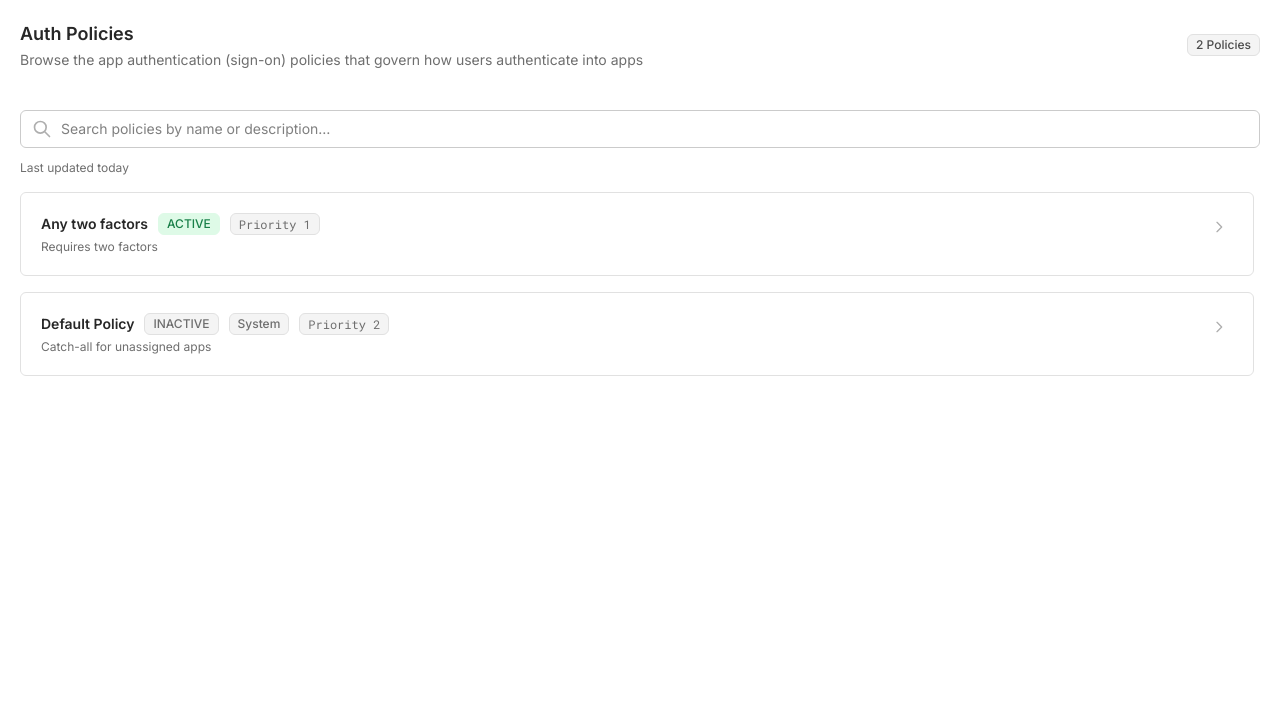
Test case: AuthPoliciesTab › shows an inline danger state when a policy’s rules fail to load
Expected: the heading "Any two factors" is shown, [41, 214, 148, 234]
Click the button named "Show rules for Any two factors".
click(1219, 227)  # box [1205, 213, 1233, 241]
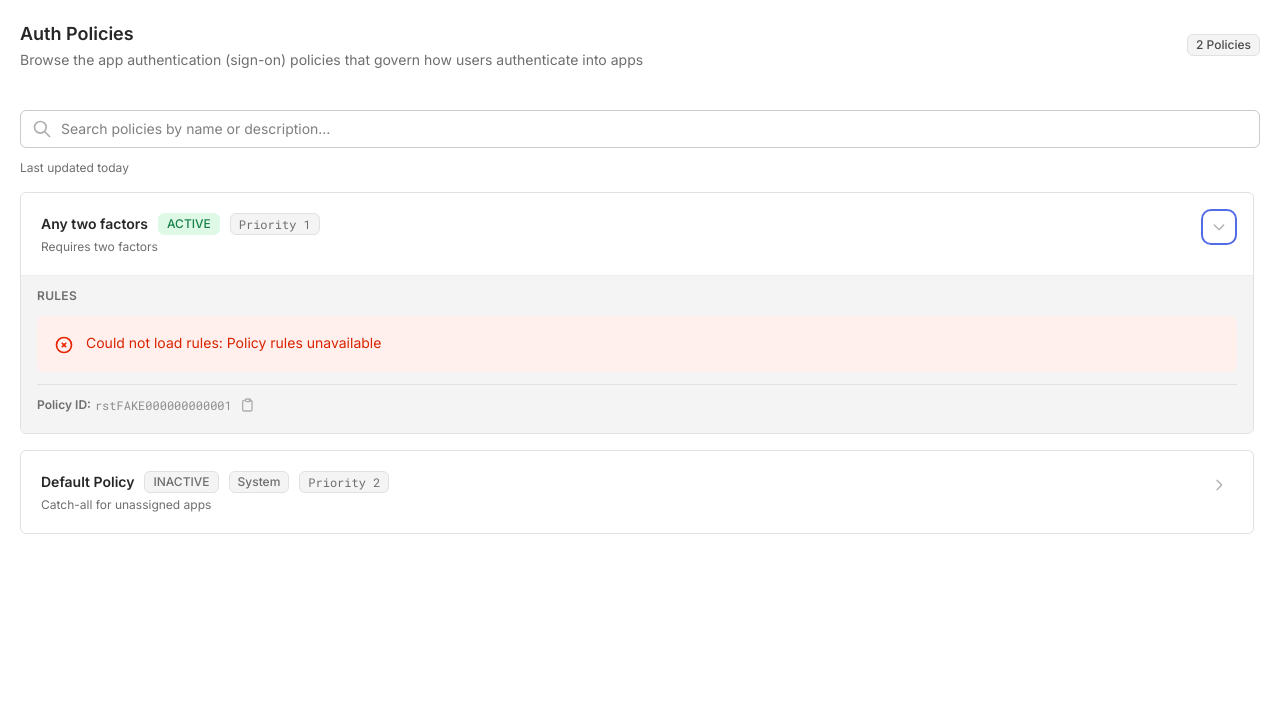
Expected: the heading "Default Policy" is shown, [41, 472, 134, 492]
Expected: the text "Could not load rules: Policy rules unavailable" is shown, [86, 333, 381, 353]
